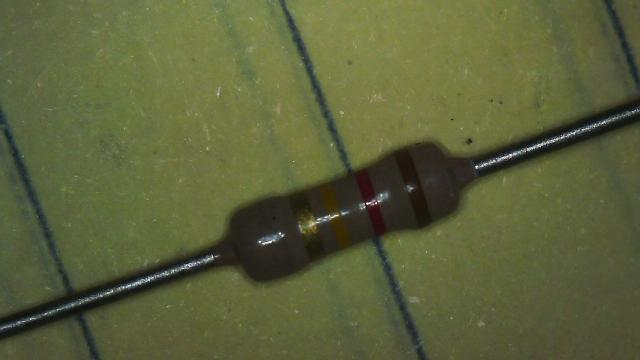brown: (394, 148, 431, 226)
gold: (290, 191, 324, 261)
red: (354, 169, 387, 236)
resistor: (197, 105, 494, 318)
yellow: (317, 182, 350, 248)
